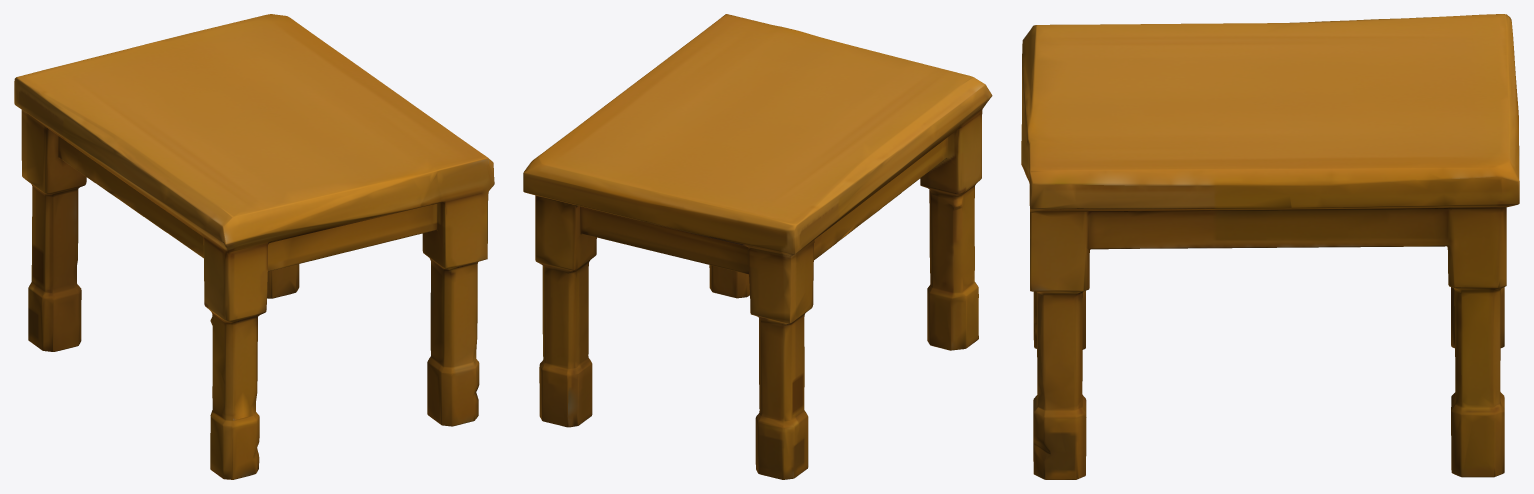
File: table.fbx
The picture shows the model from 3 angles, left to right: view 1: azimuth 30°, elevation 25°; view 2: azimuth 150°, elevation 25°; view 3: azimuth 270°, elevation 25°; orthographic projection. The views are drawn at different scales.
Visible parts, largest first — view 1: node_0.004; view 2: node_0.004; view 3: node_0.004.
Part boxes in pixels (x1,y1,x2,y2): node_0.004: [14, 14, 494, 479]; node_0.004: [523, 14, 992, 479]; node_0.004: [1021, 14, 1519, 479].
Size of the model in its own units: 0.1876 by 0.1689 by 0.2449.
1 material, 1 textured.
